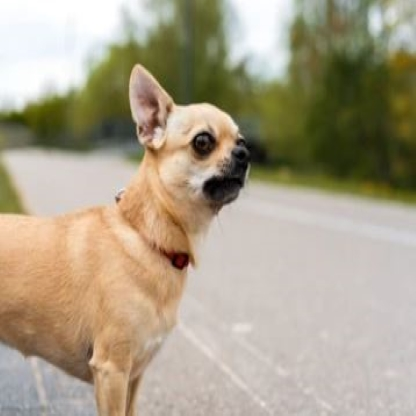chihuahua: (1, 61, 253, 416)
